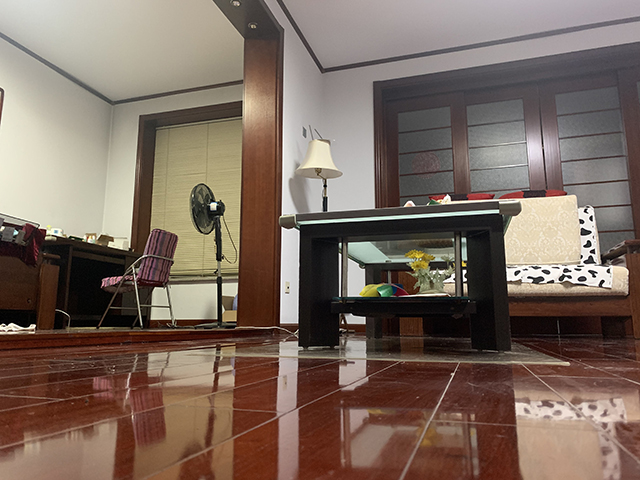bed: (1, 211, 62, 332)
carpet: (59, 326, 144, 332)
socks: (1, 321, 36, 333)
sofa: (398, 188, 640, 341)
stool: (94, 227, 180, 330)
table: (278, 198, 525, 353), (42, 224, 153, 329)
wire: (234, 325, 299, 338), (153, 319, 200, 329), (53, 307, 72, 329)
